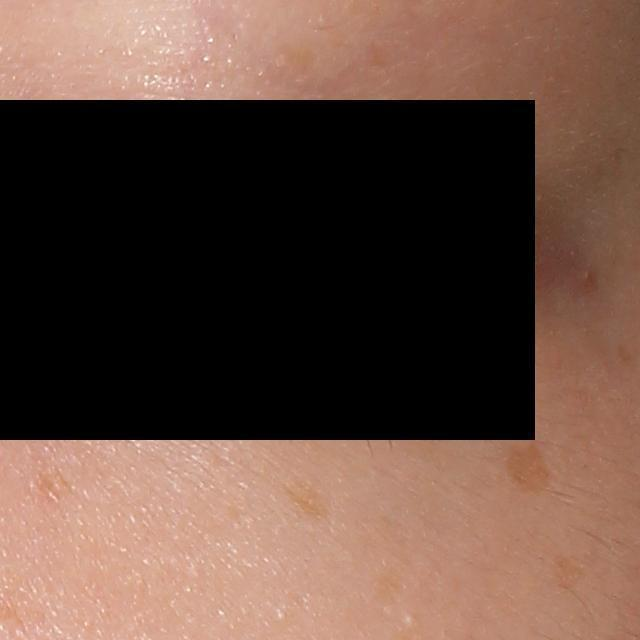melasma: (499, 439, 557, 495), (279, 478, 342, 523), (554, 553, 585, 592)
